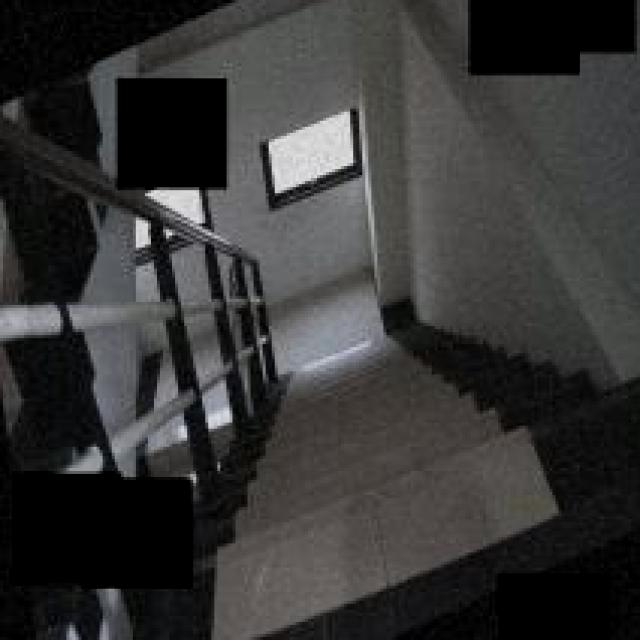downstair: (261, 390, 469, 632)
